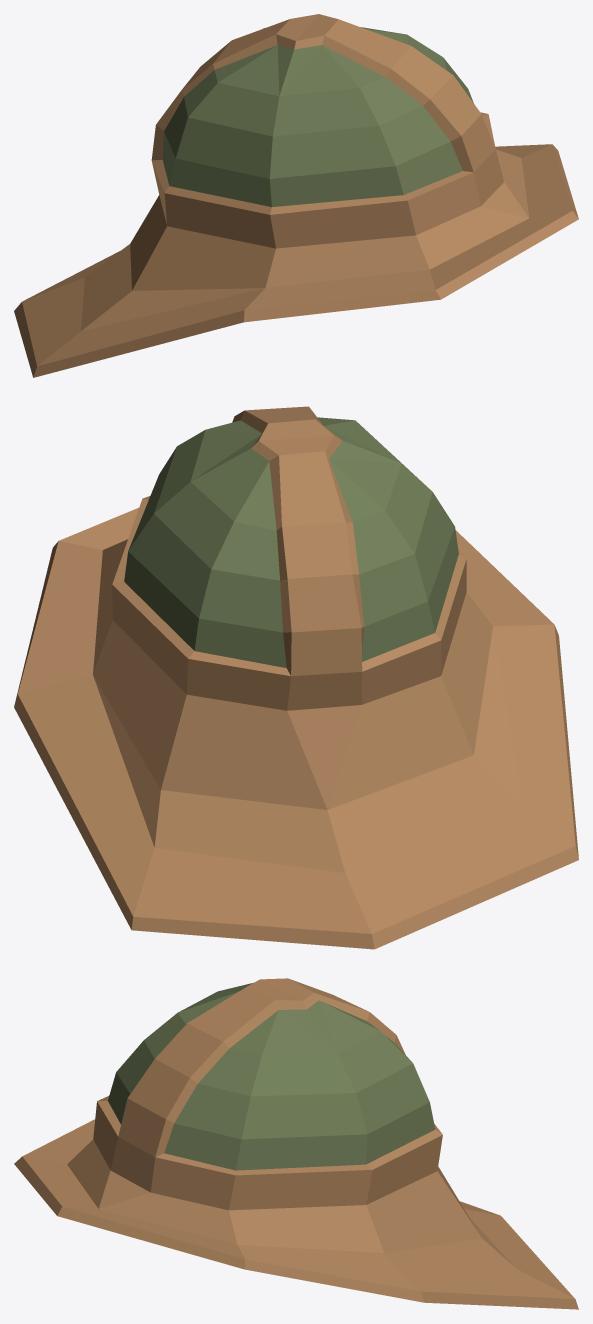
File: helmFisherman.fbx
3 views of the same model, one above another, from view 1: azimuth 30°, elevation 25°; view 2: azimuth 150°, elevation 25°; view 3: azimuth 270°, elevation 25° (orthographic). The views are drawn at different scales.
Visible parts, largest first — view 1: helmFisherman; view 2: helmFisherman; view 3: helmFisherman.
Boxes of the visible parts, <box> form: helmFisherman: <box>14,14,578,377</box>; helmFisherman: <box>14,406,578,949</box>; helmFisherman: <box>14,978,578,1309</box>.
Size of the model in its own units: 1.92 by 1.21 by 1.9.
